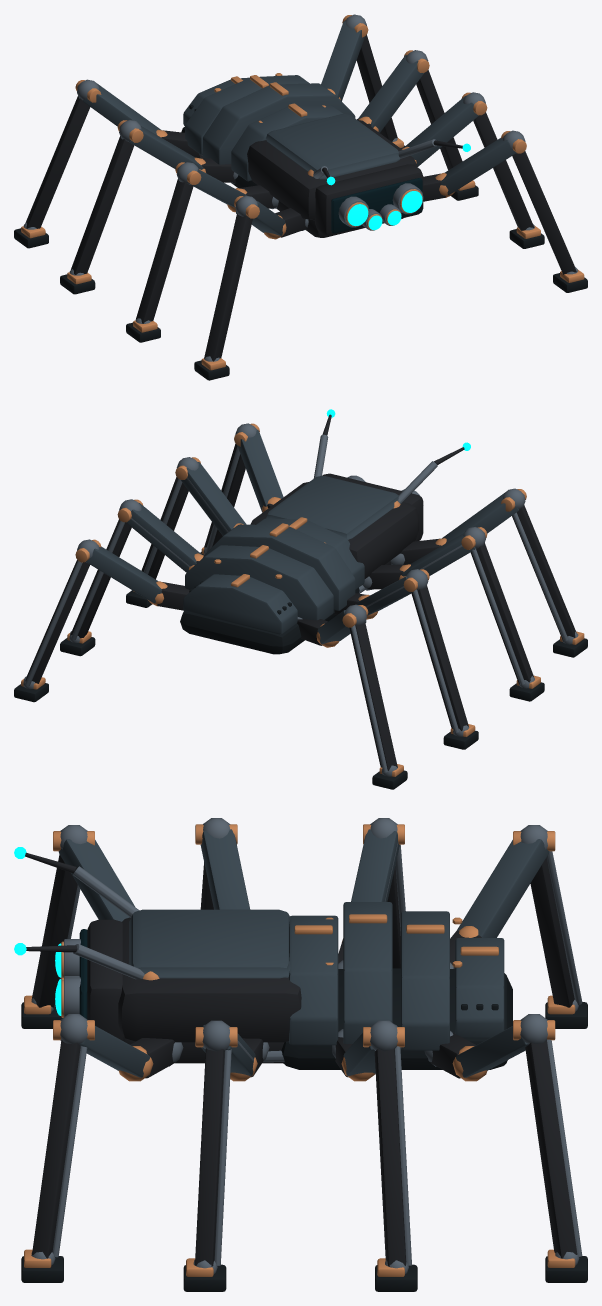
File: ECHO5_Arachnid.glb
3 renders of one model, top to bottom at view 1: azimuth 30°, elevation 25°; view 2: azimuth 150°, elevation 25°; view 3: azimuth 270°, elevation 25°, orthographic. The views are drawn at different scales.
Parts seen in each view (by area): view 1: Body_Pivot_Surfaces, Head_Pivot_Surfaces, Leg_L1_Tibia_Surfaces, Leg_L0_Tibia_Surfaces, Leg_L2_Tibia_Surfaces, Leg_L3_Tibia_Surfaces, Leg_R0_Tibia_Surfaces, Leg_R2_Femur_Surfaces, Leg_R1_Tibia_Surfaces, Leg_R0_Femur_Surfaces, Leg_R3_Femur_Surfaces, Leg_R1_Femur_Surfaces (+15 smaller); view 2: Body_Pivot_Surfaces, Leg_L2_Tibia_Surfaces, Leg_L3_Tibia_Surfaces, Leg_L1_Tibia_Surfaces, Leg_L0_Tibia_Surfaces, Leg_R3_Tibia_Surfaces, Leg_R2_Tibia_Surfaces, Leg_R2_Femur_Surfaces, Leg_R1_Femur_Surfaces, Leg_R0_Femur_Surfaces, Leg_R3_Femur_Surfaces, Leg_R1_Tibia_Surfaces (+17 smaller); view 3: Body_Pivot_Surfaces, Leg_R3_Tibia_Surfaces, Leg_R0_Tibia_Surfaces, Leg_R2_Tibia_Surfaces, Leg_R1_Tibia_Surfaces, Leg_L3_Tibia_Surfaces, Leg_L3_Femur_Surfaces, Head_Pivot_Surfaces, Leg_L0_Tibia_Surfaces, Leg_L1_Femur_Surfaces, Leg_L0_Femur_Surfaces, Leg_L2_Femur_Surfaces (+17 smaller).
Part boxes in pixels (x1,y1,x2,y2): Body_Pivot_Surfaces: [181, 73, 417, 237]; Head_Pivot_Surfaces: [315, 164, 423, 235]; Leg_L1_Tibia_Surfaces: [136, 162, 201, 323]; Leg_L0_Tibia_Surfaces: [204, 195, 259, 361]; Leg_L2_Tibia_Surfaces: [71, 120, 143, 274]; Leg_L3_Tibia_Surfaces: [25, 79, 101, 228]; Leg_R0_Tibia_Surfaces: [501, 130, 576, 274]; Leg_R2_Femur_Surfaces: [358, 55, 424, 132]; Leg_R1_Tibia_Surfaces: [461, 92, 534, 230]; Leg_R0_Femur_Surfaces: [435, 138, 516, 197]; Leg_R3_Femur_Surfaces: [321, 21, 364, 101]; Leg_R1_Femur_Surfaces: [402, 96, 478, 166]; Body_Pivot_Surfaces: [180, 476, 418, 654]; Leg_L2_Tibia_Surfaces: [403, 569, 468, 733]; Leg_L3_Tibia_Surfaces: [342, 604, 397, 772]; Leg_L1_Tibia_Surfaces: [461, 527, 533, 685]; Leg_L0_Tibia_Surfaces: [501, 488, 576, 641]; Leg_R3_Tibia_Surfaces: [25, 539, 101, 686]; Leg_R2_Tibia_Surfaces: [70, 499, 143, 640]; Leg_R2_Femur_Surfaces: [126, 503, 203, 572]; Leg_R1_Femur_Surfaces: [181, 462, 246, 535]; Leg_R0_Femur_Surfaces: [237, 430, 283, 512]; Leg_R3_Femur_Surfaces: [86, 546, 167, 606]; Leg_R1_Tibia_Surfaces: [141, 457, 200, 579]; Body_Pivot_Surfaces: [118, 902, 512, 1069]; Leg_R3_Tibia_Surfaces: [513, 1014, 582, 1258]; Leg_R0_Tibia_Surfaces: [32, 1014, 94, 1258]; Leg_R2_Tibia_Surfaces: [363, 1020, 411, 1266]; Leg_R1_Tibia_Surfaces: [195, 1020, 237, 1266]; Leg_L3_Tibia_Surfaces: [513, 825, 582, 1007]; Leg_L3_Femur_Surfaces: [456, 839, 549, 937]; Head_Pivot_Surfaces: [79, 919, 124, 1041]; Leg_L0_Tibia_Surfaces: [32, 825, 94, 1008]; Leg_L1_Femur_Surfaces: [200, 829, 250, 909]; Leg_L0_Femur_Surfaces: [58, 839, 134, 921]; Leg_L2_Femur_Surfaces: [341, 829, 399, 942].
Bounding box in the file's own units: 1.06 × 0.439 × 0.8983.
